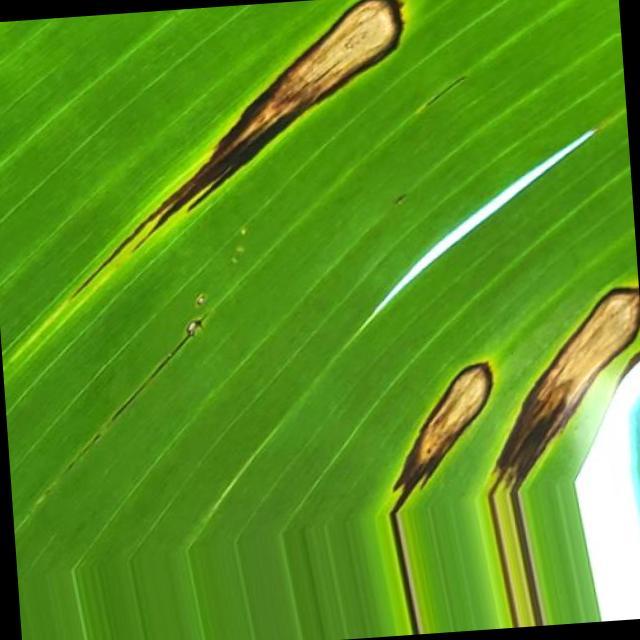Banana_Black_Sigatoka: (374, 288, 640, 504), (196, 0, 429, 191)
